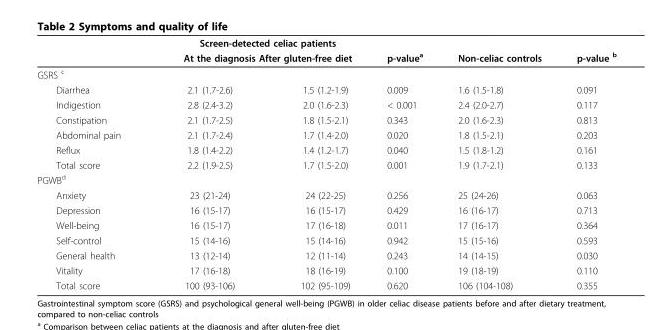table: (36, 36, 615, 290)
table column: (439, 36, 558, 290), (36, 36, 151, 290), (151, 36, 266, 290), (266, 36, 368, 290), (368, 36, 439, 290), (558, 36, 615, 290)
table column header: (36, 36, 615, 81)
table projected row header: (36, 171, 615, 187)
table row: (36, 49, 615, 65), (36, 65, 615, 81), (36, 96, 615, 112), (36, 171, 615, 187), (36, 81, 615, 96), (36, 112, 615, 127), (36, 127, 615, 142), (36, 142, 615, 157), (36, 187, 615, 202), (36, 202, 615, 217), (36, 217, 615, 232), (36, 232, 615, 247), (36, 247, 615, 262), (36, 262, 615, 277), (36, 157, 615, 171), (36, 36, 615, 49), (36, 277, 615, 290)
table spanning cell: (151, 36, 368, 65), (439, 36, 558, 81), (36, 36, 151, 81), (368, 36, 439, 81), (558, 36, 615, 81)
